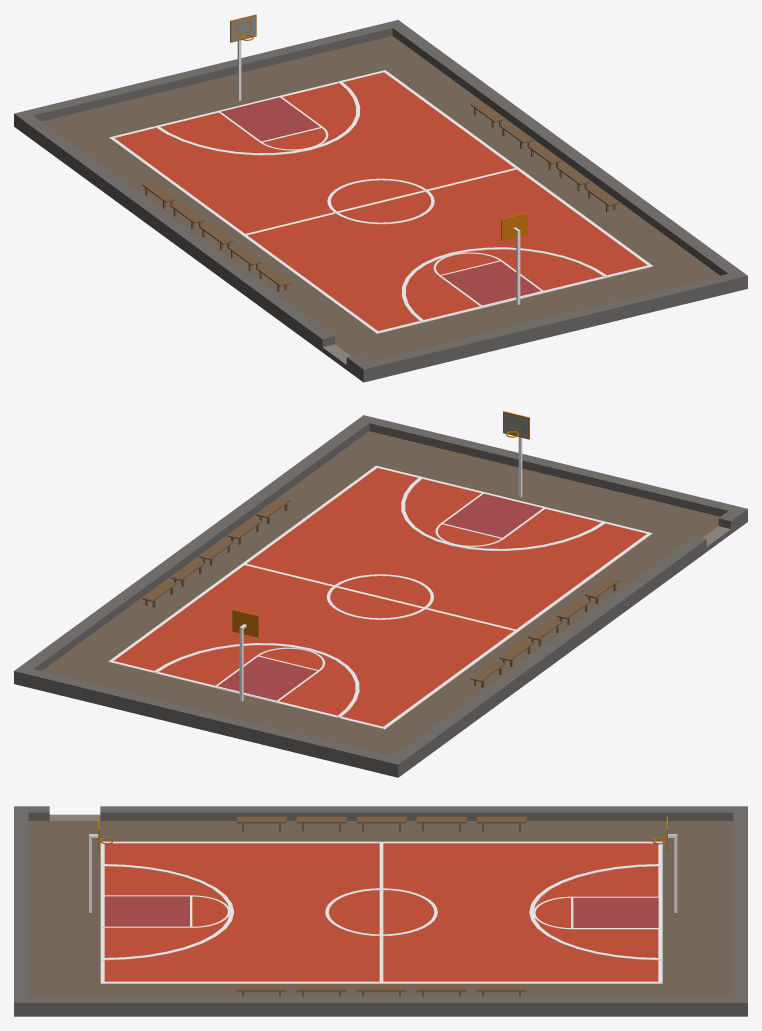
File: Cartoon-Basketball-Court.fbx
3 views of the same model, one above another, from view 1: azimuth 30°, elevation 25°; view 2: azimuth 150°, elevation 25°; view 3: azimuth 270°, elevation 25° (orthographic). The views are drawn at different scales.
Visible parts, largest first — view 1: Basketball, Basketball.002, Basketball.001; view 2: Basketball, Basketball.001, Basketball.002; view 3: Basketball, Basketball.001, Basketball.002.
Part boxes in pixels (x1,y1,x2,y2): Basketball: [14, 20, 747, 382]; Basketball.002: [501, 212, 527, 304]; Basketball.001: [230, 14, 256, 100]; Basketball: [14, 415, 747, 777]; Basketball.001: [232, 609, 258, 701]; Basketball.002: [503, 411, 529, 497]; Basketball: [14, 806, 747, 1016]; Basketball.001: [652, 816, 677, 912]; Basketball.002: [89, 816, 113, 912].
Bounding box in the file's own units: 1530 × 343 × 2411.
